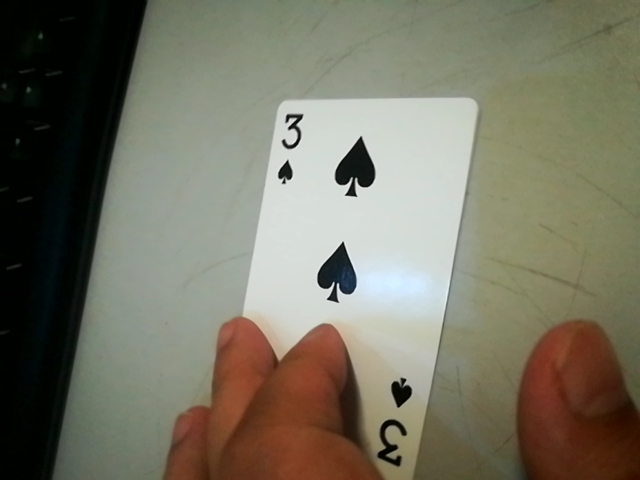ht 3: (265, 106, 313, 187)
